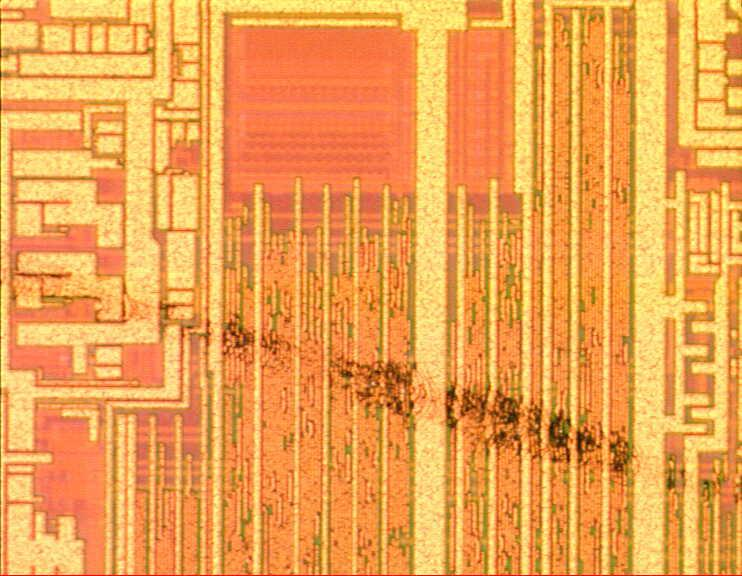SCRATCH: (1, 248, 742, 516)
